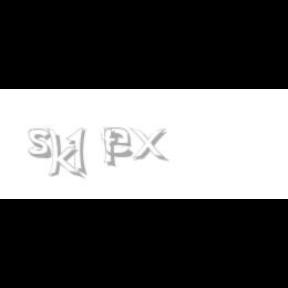1: (65, 128, 87, 176)
e: (104, 128, 138, 158)
k: (46, 128, 84, 180)
s: (28, 128, 56, 160)
t: (101, 128, 123, 168)
x: (130, 128, 172, 162)
